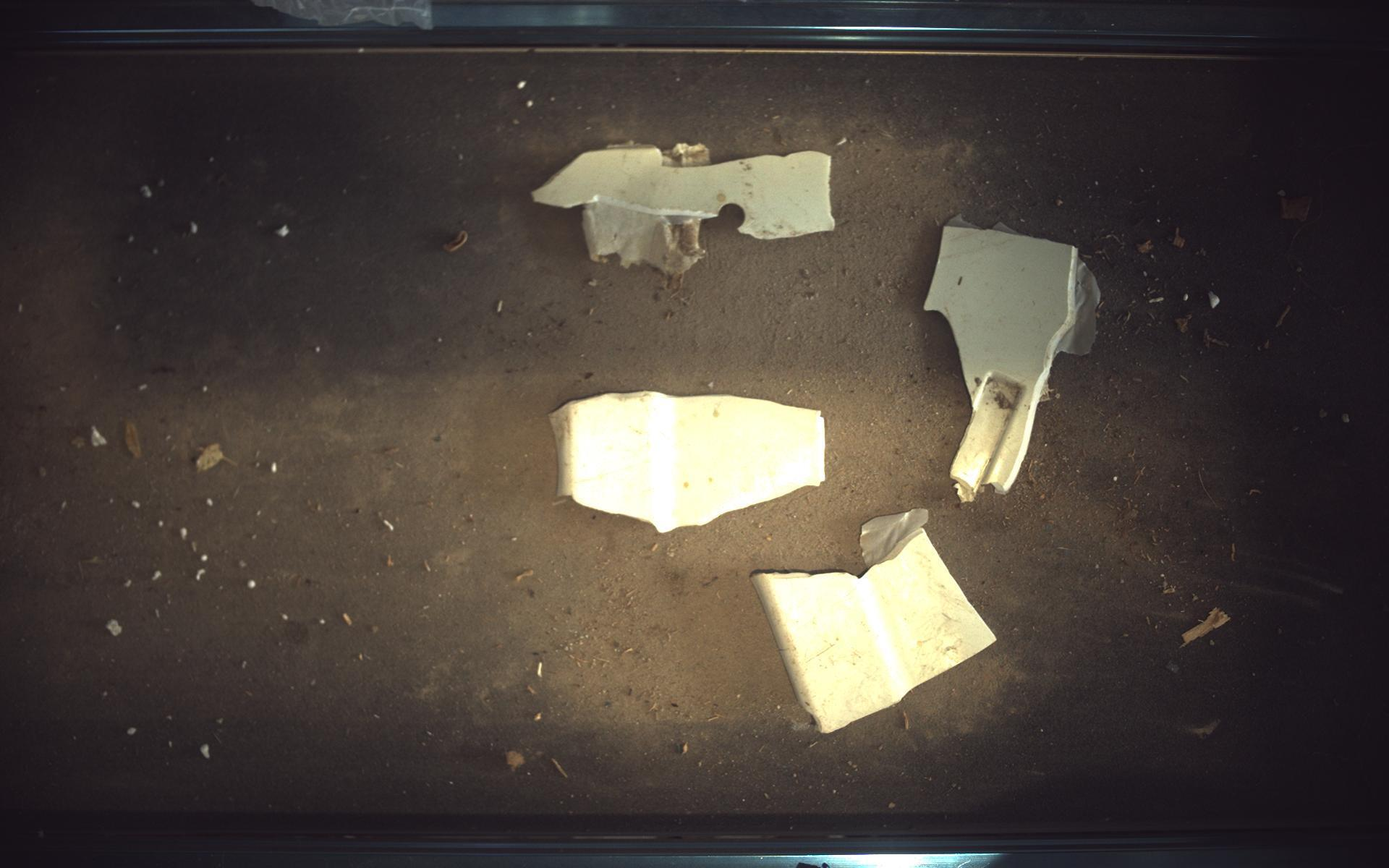plastic: (753, 510, 998, 734), (926, 215, 1103, 502), (533, 142, 836, 277), (551, 391, 826, 533)
